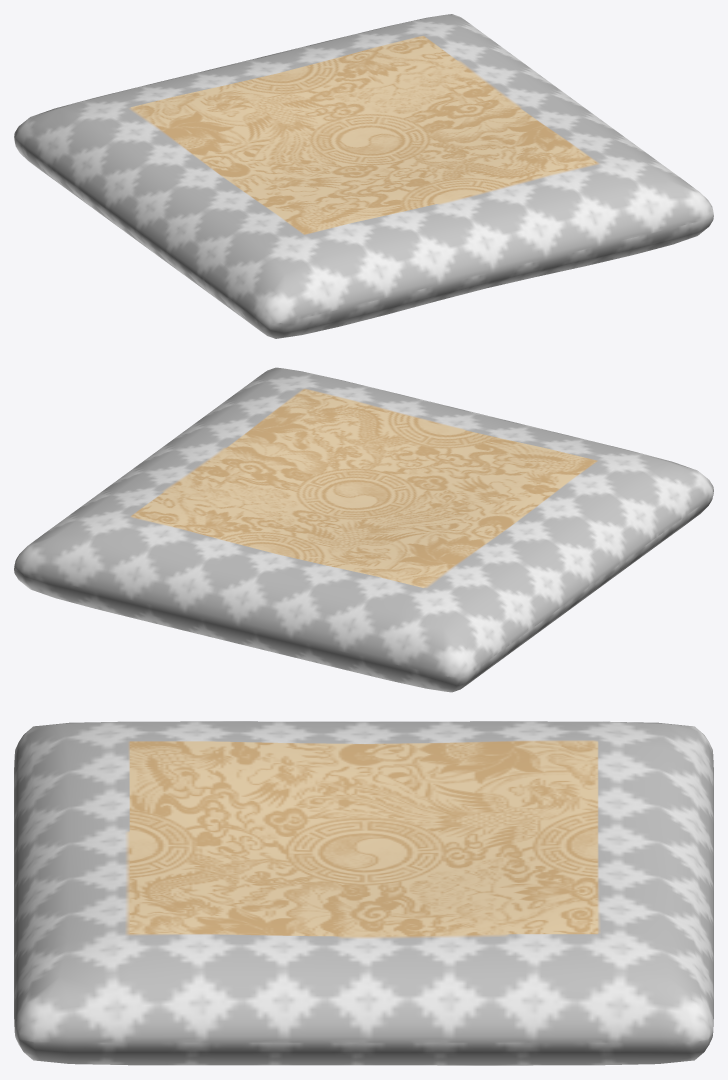
The model's file is Cushion.fbx.
3 renders of one model, top to bottom at view 1: azimuth 30°, elevation 25°; view 2: azimuth 150°, elevation 25°; view 3: azimuth 270°, elevation 25°, orthographic. The views are drawn at different scales.
Parts seen in each view (by area): view 1: Cushion; view 2: Cushion; view 3: Cushion.
Part boxes in pixels (<box>): Cushion: <box>14,14,713,338</box>; Cushion: <box>14,367,713,692</box>; Cushion: <box>14,721,713,1065</box>.
Bounding box in the file's own units: 52.78 × 9.29 × 52.32.
